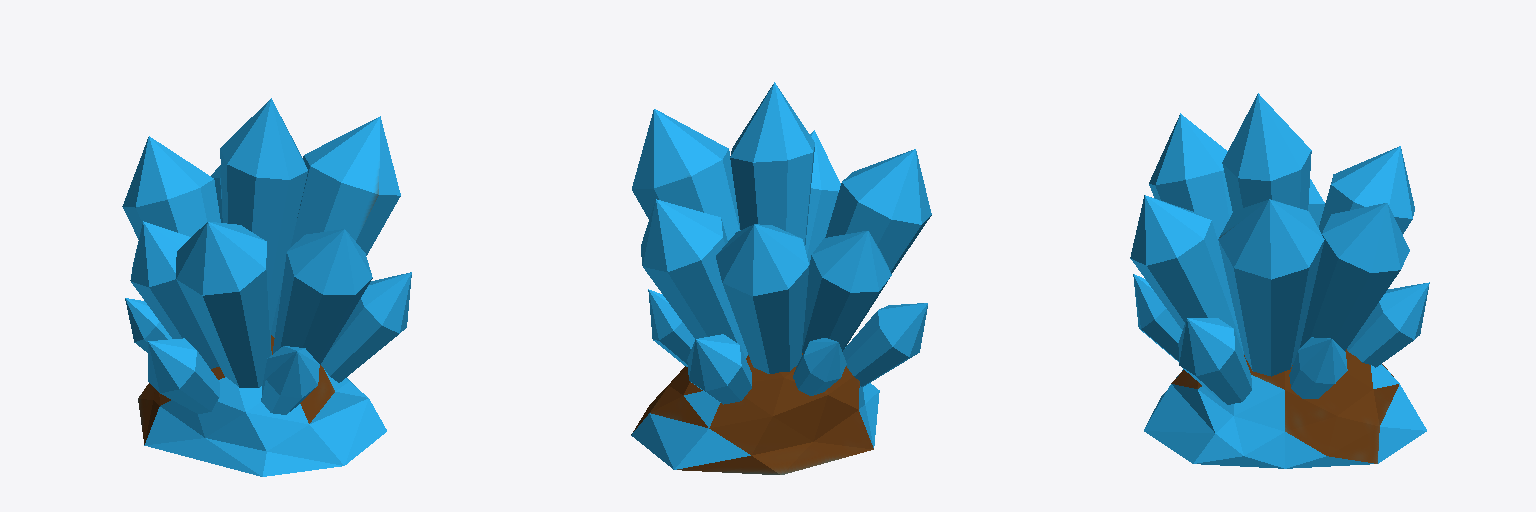
3 views of the same model, side by side, from view 1: azimuth 30°, elevation 25°; view 2: azimuth 150°, elevation 25°; view 3: azimuth 270°, elevation 25° (orthographic).
Visible parts, largest first — view 1: Crystal_Cylinder.007; view 2: Crystal_Cylinder.007; view 3: Crystal_Cylinder.007.
Boxes of the visible parts, x1=… form: Crystal_Cylinder.007: x1=122, y1=98, x2=411, y2=476; Crystal_Cylinder.007: x1=631, y1=82, x2=931, y2=474; Crystal_Cylinder.007: x1=1130, y1=93, x2=1429, y2=468.
Size of the model in its own units: 1.35 by 1.58 by 1.3.
Materials: 1 (1 with a texture image).